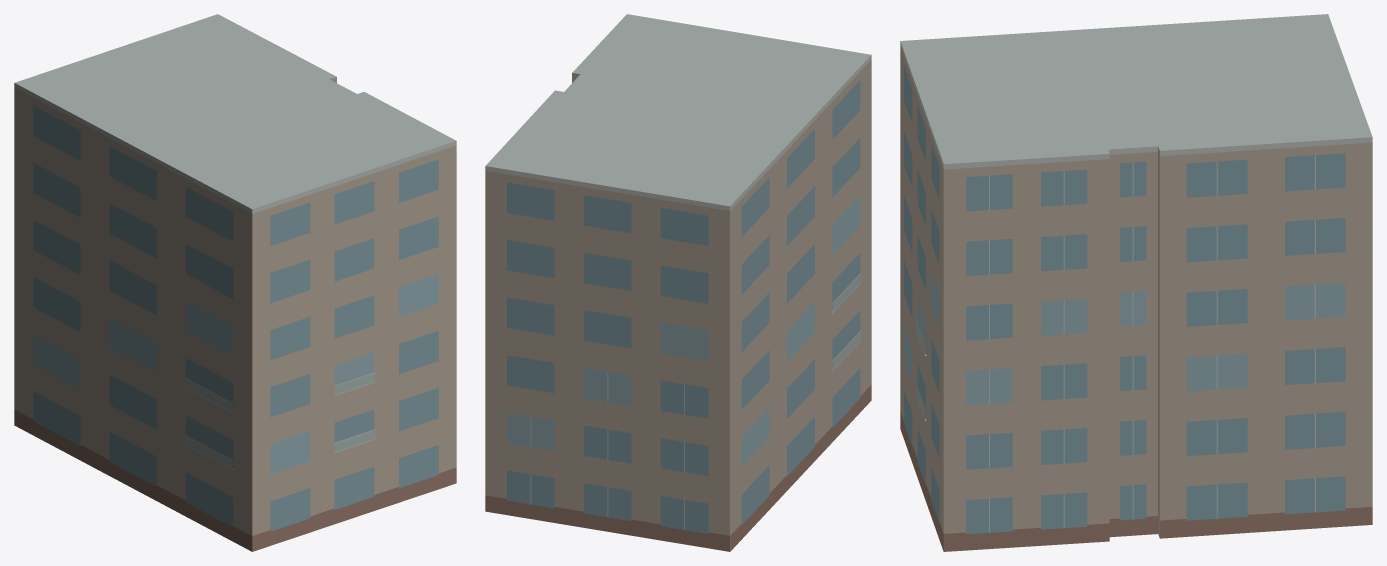
File: survey-upis-32935675.glb
The picture shows the model from 3 angles, left to right: view 1: azimuth 30°, elevation 25°; view 2: azimuth 150°, elevation 25°; view 3: azimuth 270°, elevation 25°; orthographic projection. The views are drawn at different scales.
Visible parts, largest first — view 1: survey-upis-32935675.tmp; view 2: survey-upis-32935675.tmp; view 3: survey-upis-32935675.tmp.
Boxes of the visible parts, <box> form: survey-upis-32935675.tmp: <box>14,14,456,551</box>; survey-upis-32935675.tmp: <box>485,14,871,551</box>; survey-upis-32935675.tmp: <box>900,14,1372,551</box>.
Bounding box in the file's own units: 14.94 × 17.95 × 19.84.
